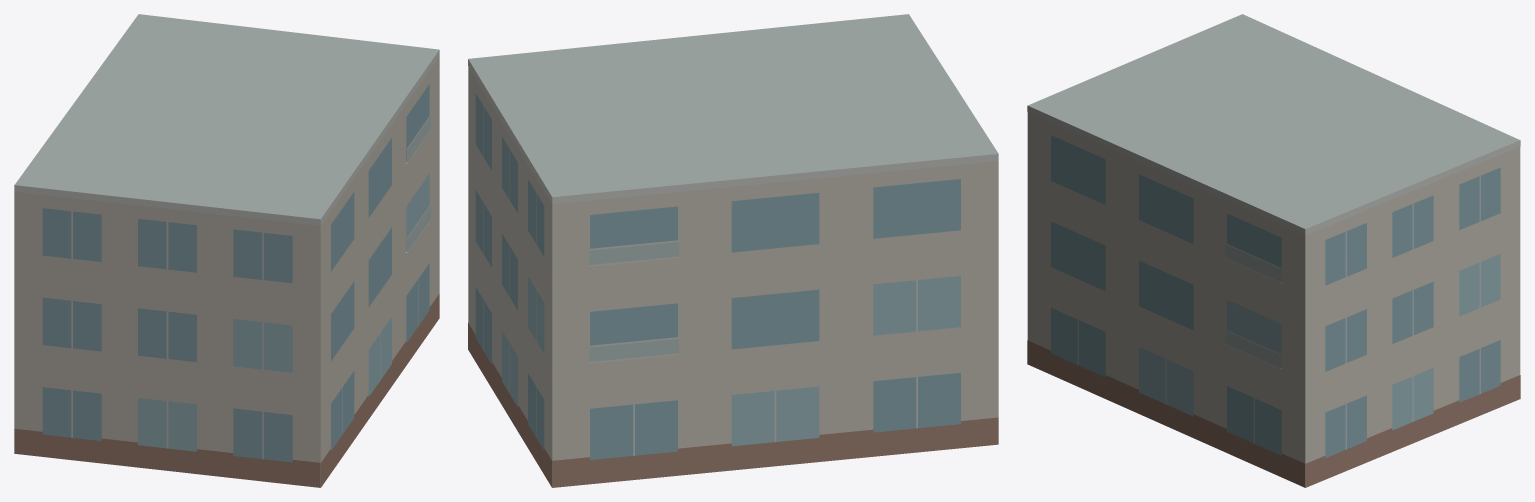
The model's file is survey-upis-32887642.glb.
3 views of the same model, side by side, from view 1: azimuth 30°, elevation 25°; view 2: azimuth 150°, elevation 25°; view 3: azimuth 270°, elevation 25° (orthographic). The views are drawn at different scales.
Parts seen in each view (by area): view 1: survey-upis-32887642.tmp; view 2: survey-upis-32887642.tmp; view 3: survey-upis-32887642.tmp.
Part boxes in pixels (bbox=[...]): survey-upis-32887642.tmp: bbox=[14, 14, 439, 487]; survey-upis-32887642.tmp: bbox=[468, 14, 998, 487]; survey-upis-32887642.tmp: bbox=[1027, 14, 1520, 487].
Size of the model in its own units: 17.84 by 10 by 17.27.
